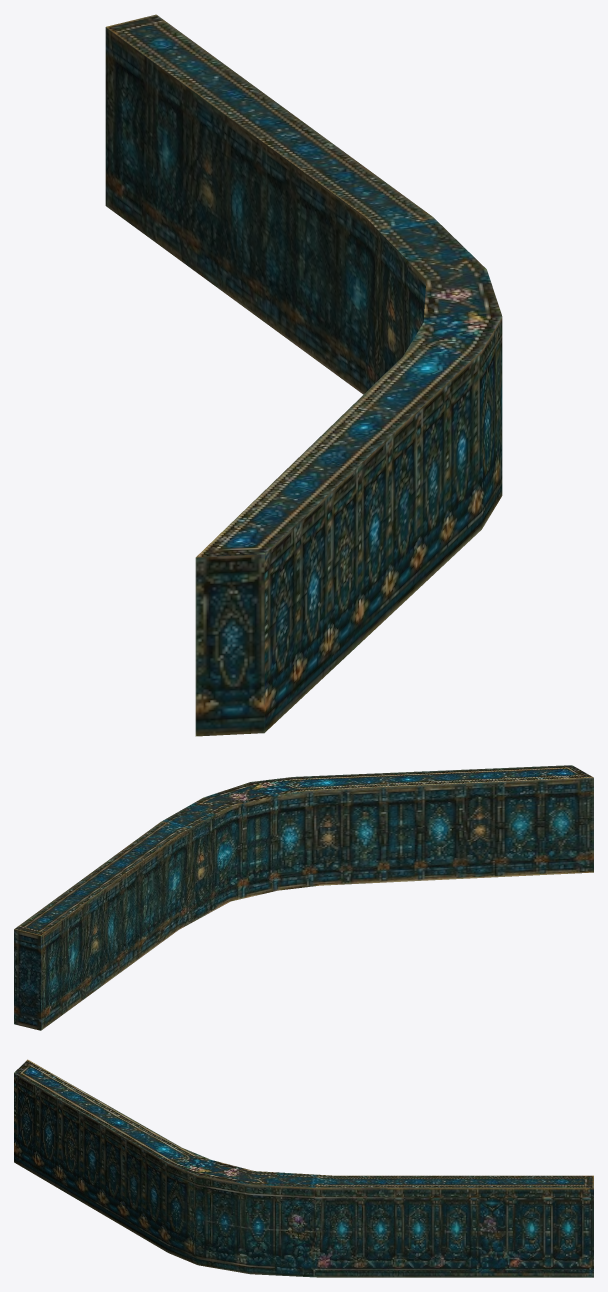
The model's file is ramp_pale_down_right_death_lvl_2.glb.
The picture shows the model from 3 angles, top to bottom: view 1: azimuth 30°, elevation 25°; view 2: azimuth 150°, elevation 25°; view 3: azimuth 270°, elevation 25°; orthographic projection. The views are drawn at different scales.
Parts seen in each view (by area): view 1: Mesh_0.010; view 2: Mesh_0.010; view 3: Mesh_0.010.
Part boxes in pixels (bbox=[...]): Mesh_0.010: bbox=[105, 14, 502, 736]; Mesh_0.010: bbox=[14, 765, 593, 1030]; Mesh_0.010: bbox=[14, 1059, 593, 1277].
Bounding box in the file's own units: 0.1283 × 0.0416 × 0.2445.
1 material, 1 textured.
